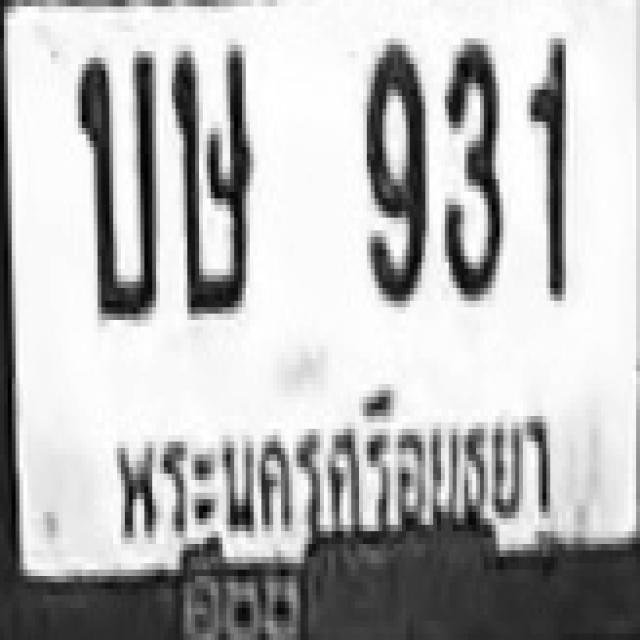1: (523, 35, 566, 298)
3: (441, 32, 499, 294)
35BorBaiMai: (74, 44, 156, 314)
48SorRueSi: (168, 39, 250, 308)
9: (363, 38, 425, 301)
Ayutthaya: (108, 382, 568, 549)
